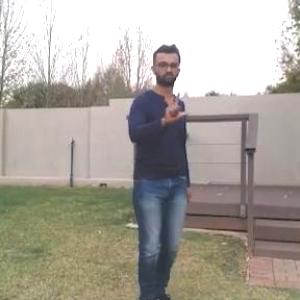land_hand: (160, 91, 188, 122)
